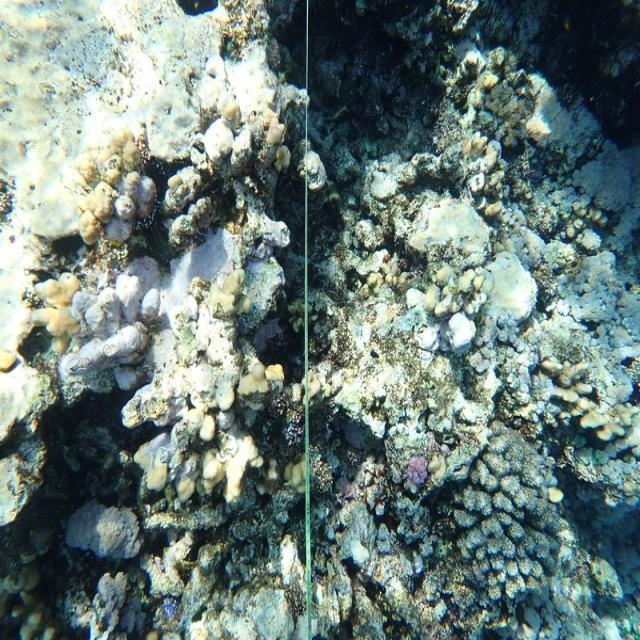Bleached Coral: (60, 259, 161, 389), (445, 302, 536, 404), (165, 228, 251, 318), (104, 171, 156, 241)
Dead Coral: (445, 428, 575, 614)
Healthy Coral: (404, 455, 428, 493)
